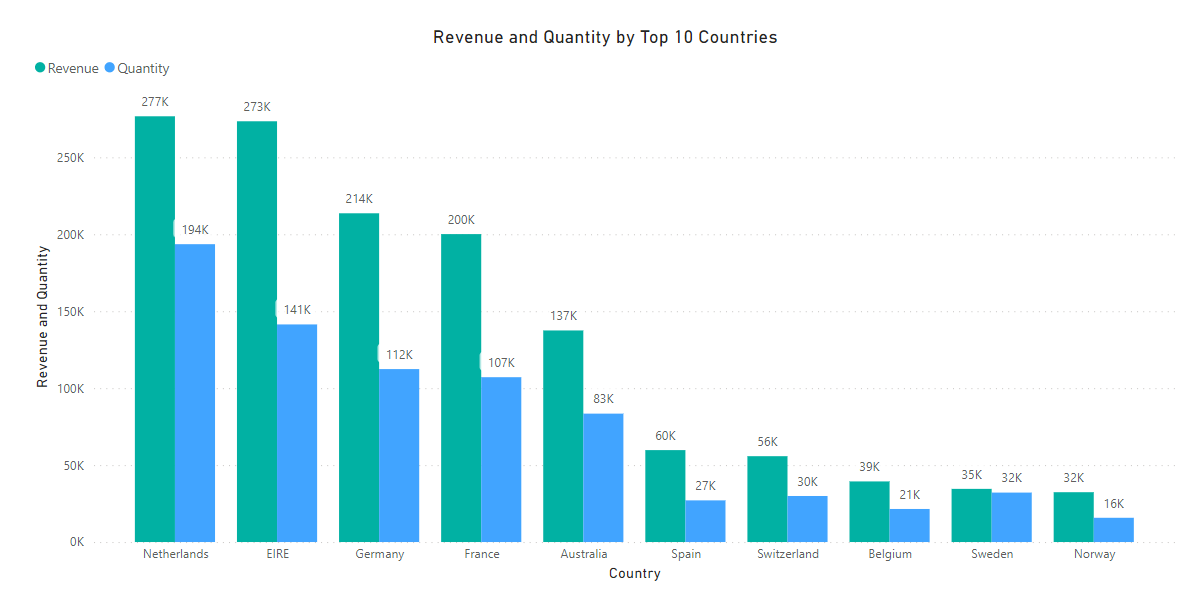

What the dashboard file says about the page in this screenshot:
{"tool":"powerbi","page":{"name":"Question 2","canvas":[1280,720],"ordinal":1},"visuals":[{"type":"lineClusteredColumnComboChart","title":"Revenue and Quantity by Top 10 Countries","fields":{"Category":["Online Retail.Country"],"Y":["Sum(Online Retail.Revenue)","Sum(Online Retail.Quantity)"]},"box":[73.3,85.6,1127.1,548.9],"z":0}]}

Visuals, with their boxes on the page's 1280x720 design canvas (x1, y1, x2, y2). These are canvas units, not pixel positions in the 1185x612 screenshot, which may show the page scaled, cropped or inside an application window:
"Revenue and Quantity by Top 10 Countries" lineClusteredColumnComboChart: Rect(73, 86, 1200, 634)
